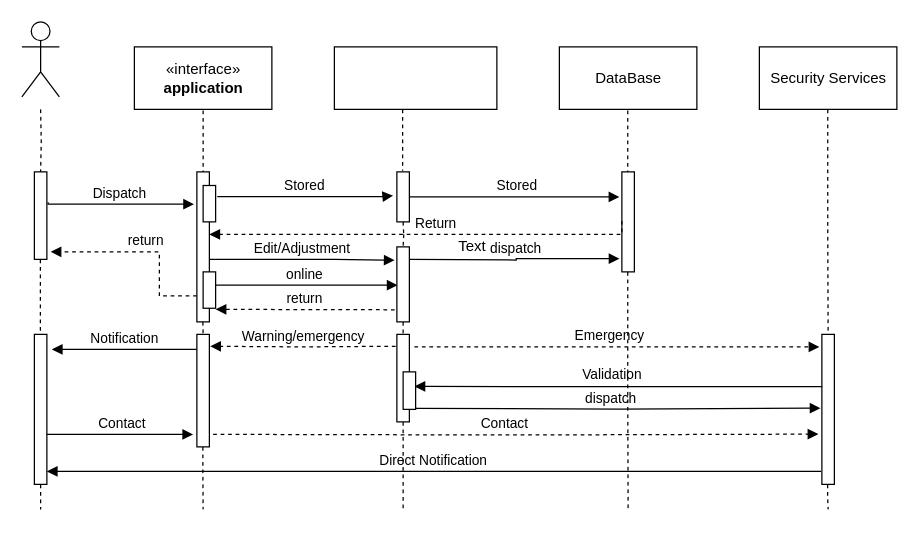
Some shapes in this 919 by 533 pixel diagram are drawn without their labels. Here are the shapes that lost their labels. From the top down, the box of each, then its label:
(21, 21, 59, 97): User
(333, 46, 497, 109): Sensors/devices
